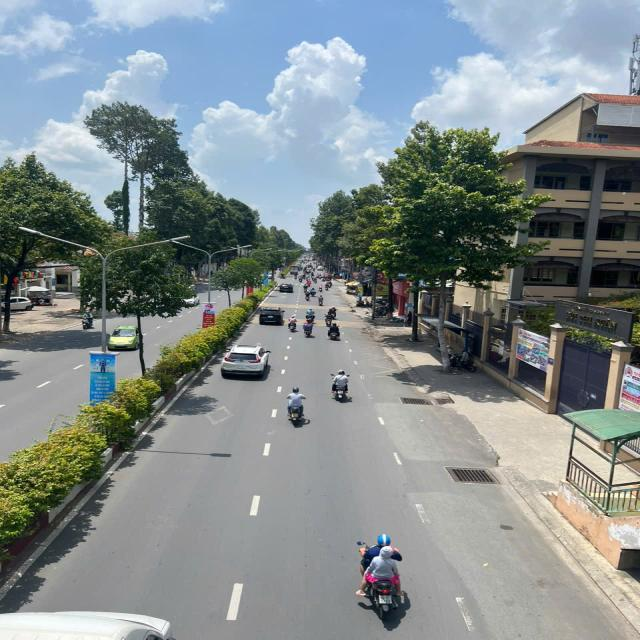car: (221, 340, 274, 380), (104, 320, 146, 352), (255, 302, 287, 328), (279, 278, 295, 296)
motobyte: (351, 530, 412, 625), (283, 385, 310, 429), (326, 366, 355, 406), (324, 318, 348, 346), (285, 312, 301, 336), (325, 305, 343, 326), (303, 316, 317, 338), (306, 306, 319, 323), (315, 292, 328, 307)
